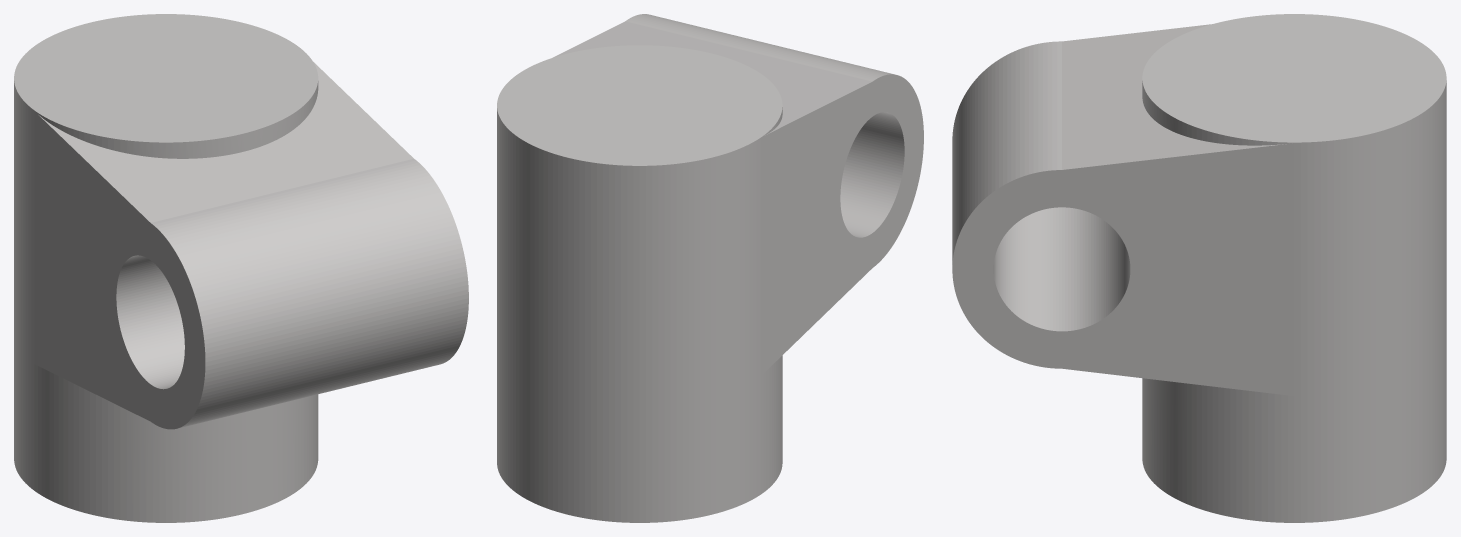
File: head_base.dae
The picture shows the model from 3 angles, left to right: view 1: azimuth 30°, elevation 25°; view 2: azimuth 150°, elevation 25°; view 3: azimuth 270°, elevation 25°; orthographic projection. The views are drawn at different scales.
Visible parts, largest first — view 1: HeadBase; view 2: HeadBase; view 3: HeadBase.
Part boxes in pixels (box(x1,y1,x2,y2)): HeadBase: box(14, 14, 468, 522); HeadBase: box(497, 14, 923, 522); HeadBase: box(952, 14, 1446, 522).
Bounding box in the file's own units: 0.1334 × 0.2167 × 0.184.
1 material, 1 textured.
